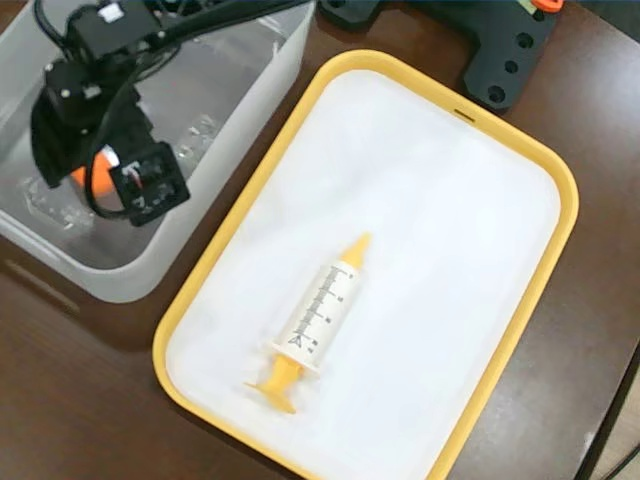syringe: (250, 229, 378, 414)
